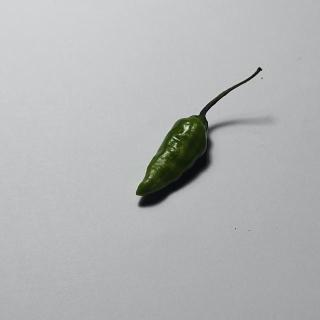Cabai Hijau: (127, 64, 268, 210)
